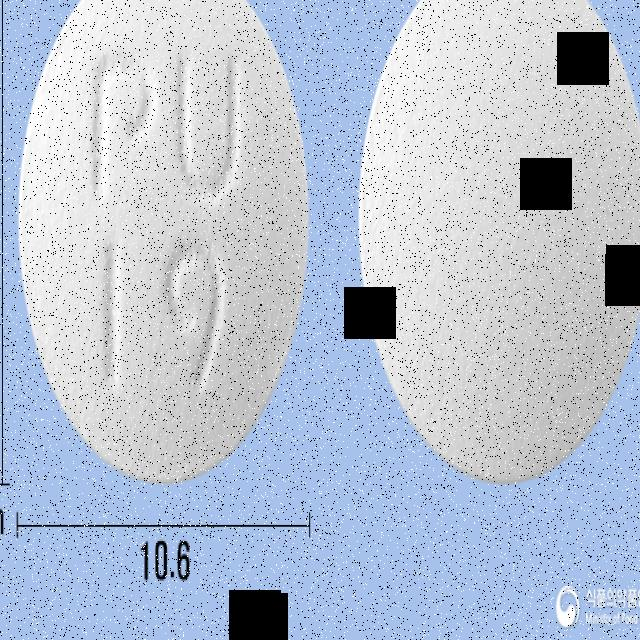Flori: (15, 0, 310, 482)
